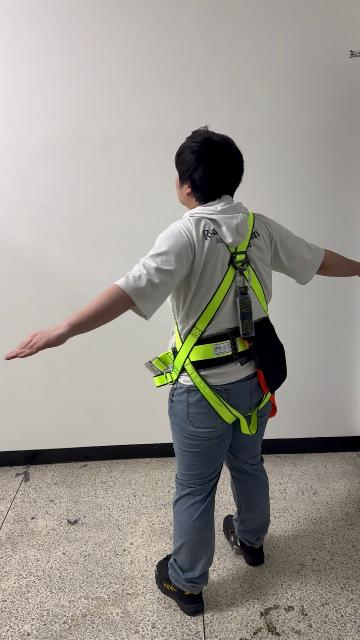helmet_not_worn: (172, 127, 247, 208)
shoe_worn: (155, 554, 203, 616), (223, 514, 264, 566)
vest_worn: (145, 213, 280, 432)
